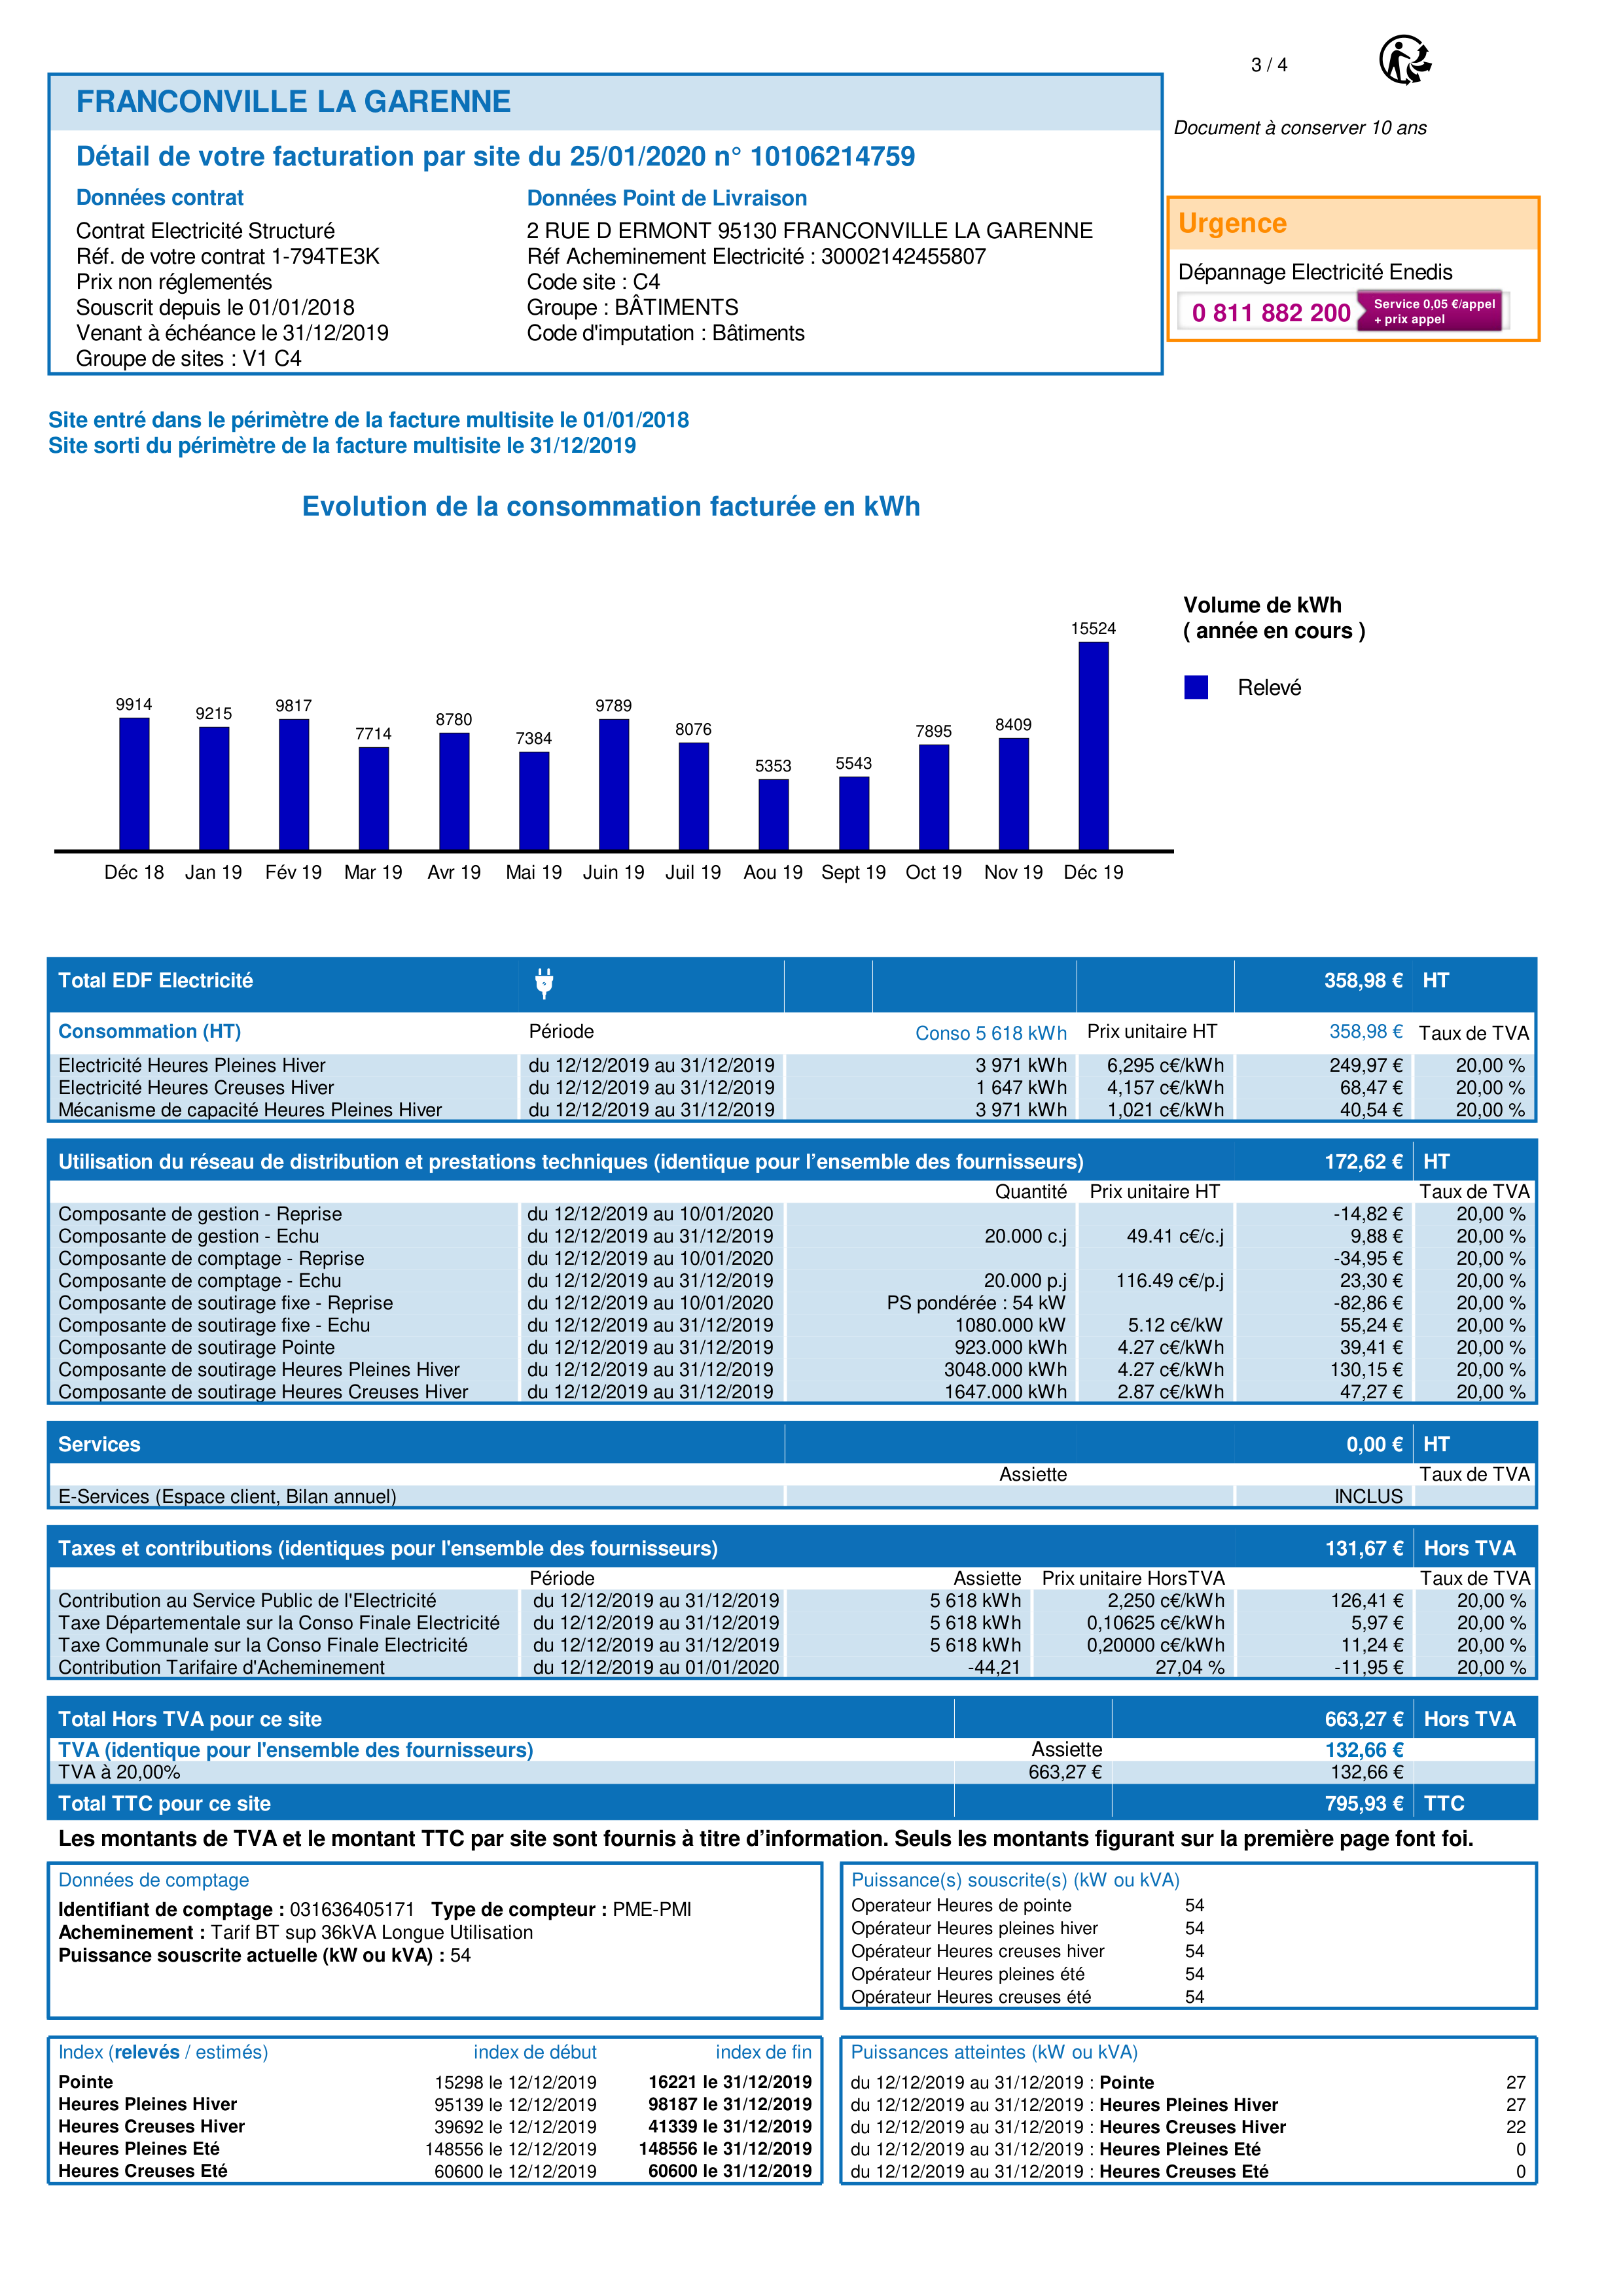area: (46, 2037, 824, 2183)
type_indicator: (47, 2040, 279, 2070)
